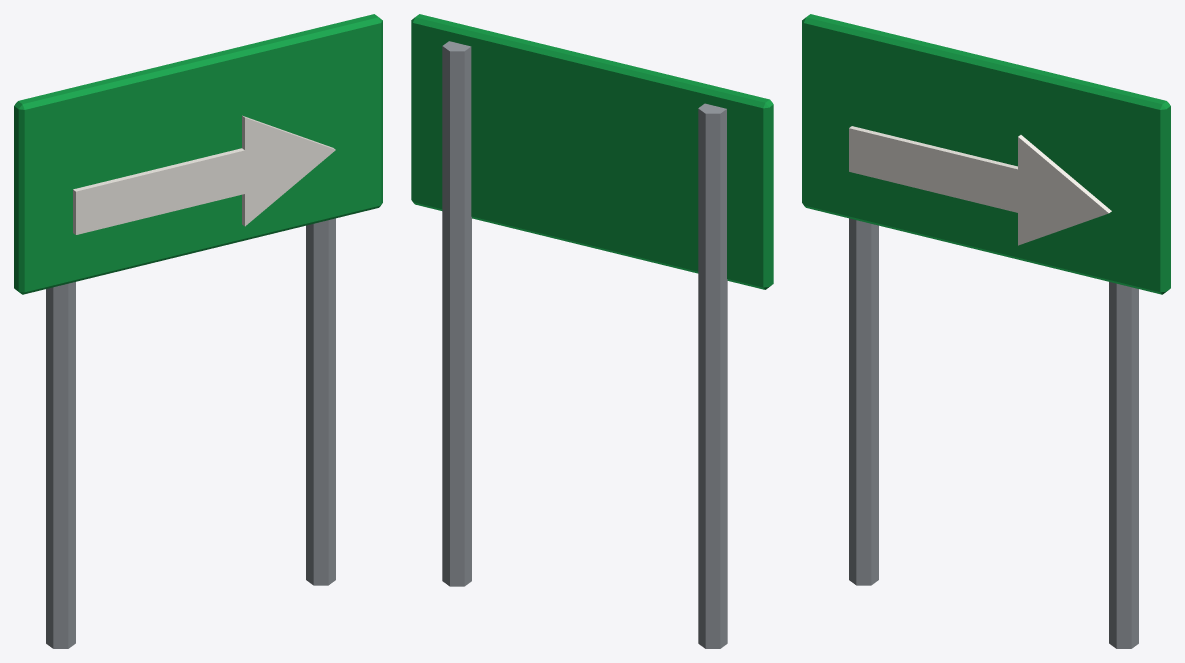
File: papan_evakuasi_v001.glb
The picture shows the model from 3 angles, left to right: view 1: azimuth 30°, elevation 25°; view 2: azimuth 150°, elevation 25°; view 3: azimuth 330°, elevation 25°; orthographic projection.
Parts seen in each view (by area): view 1: Papan_Evakuasi; view 2: Papan_Evakuasi; view 3: Papan_Evakuasi.
Part boxes in pixels (x1,y1,x2,y2): Papan_Evakuasi: (14,14,382,648); Papan_Evakuasi: (411,14,773,648); Papan_Evakuasi: (802,14,1170,648).
Bounding box in the file's own units: 1.4 × 2.05 × 0.15.
